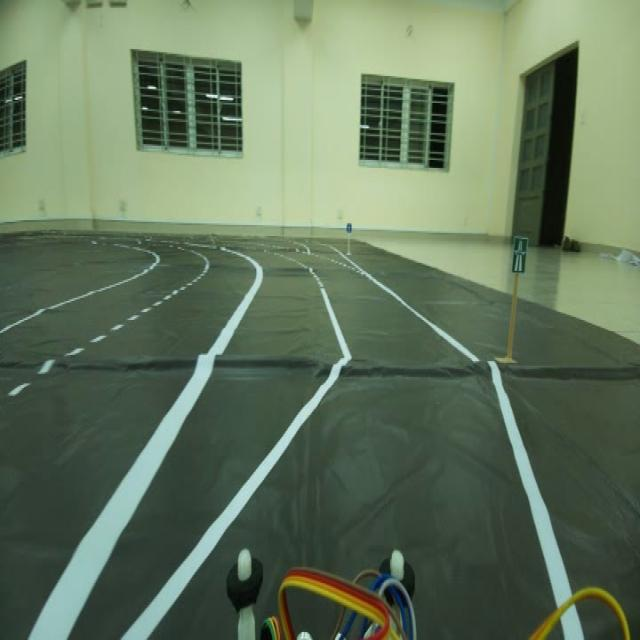highway_entry: (509, 224, 531, 281)
